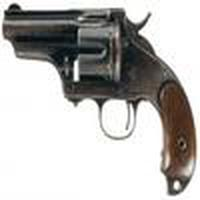gun: (6, 7, 193, 195)
